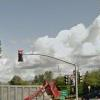Traffic light: (13, 41, 28, 69)
